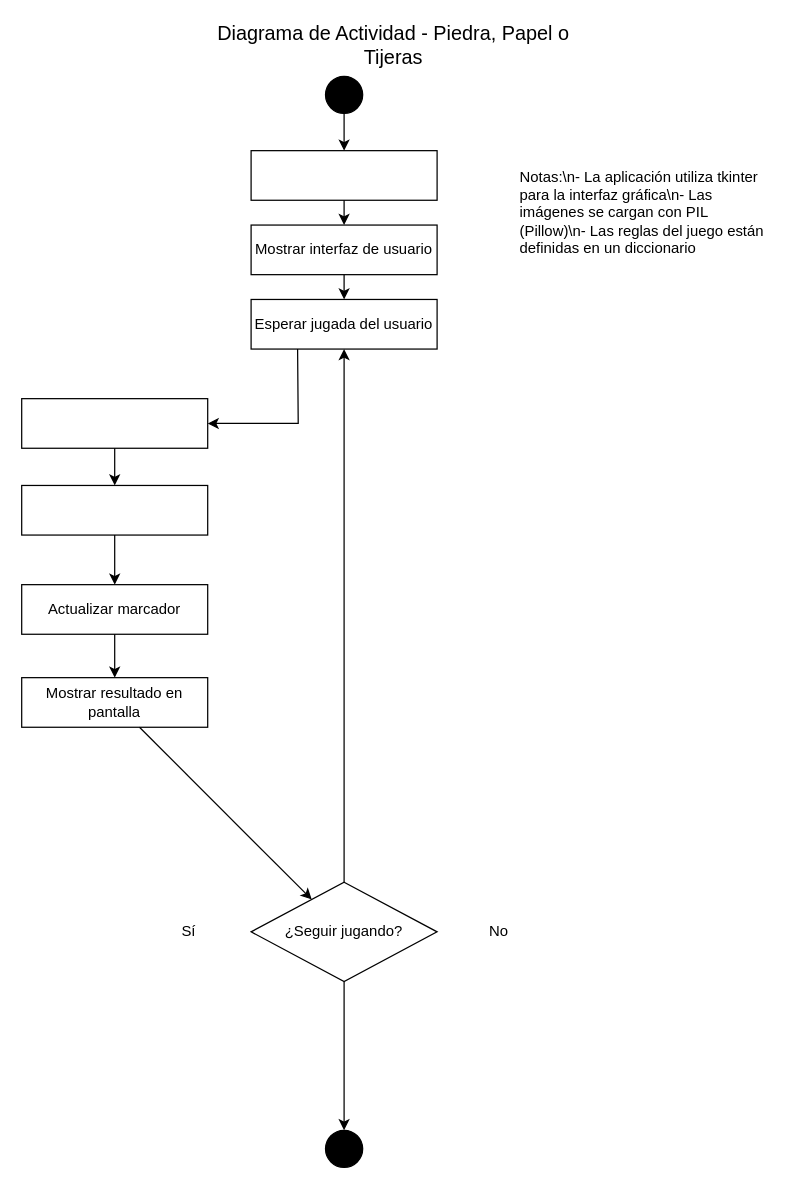
The diagram is 787 pixels wide and 1189 high, and some of its shapes have lost their labels. The box of each missing label's shape, as (x1, y1, x2, y2) in pixels:
Determinar resultado: (20, 484, 208, 535)
Generar jugada de la computadora: (20, 397, 208, 448)
Inicializar aplicación GUI: (250, 149, 437, 200)
